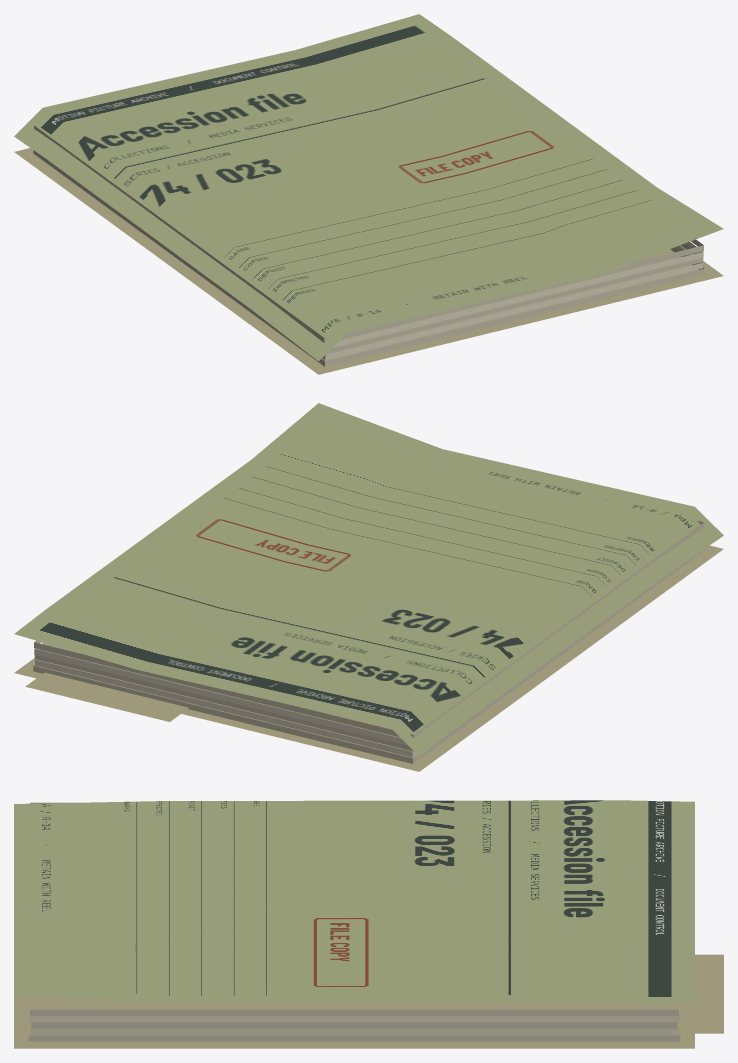
The model's file is accession.gltf.
3 views of the same model, one above another, from view 1: azimuth 30°, elevation 25°; view 2: azimuth 150°, elevation 25°; view 3: azimuth 270°, elevation 25° (orthographic). The views are drawn at different scales.
Visible parts, largest first — view 1: accession; view 2: accession; view 3: accession.
Part boxes in pixels (bbox=[...]): accession: bbox=[14, 14, 723, 374]; accession: bbox=[14, 403, 723, 771]; accession: bbox=[14, 800, 723, 1048].
Size of the model in its own units: 0.252 by 0.0279 by 0.342.
4 materials, 1 textured.
